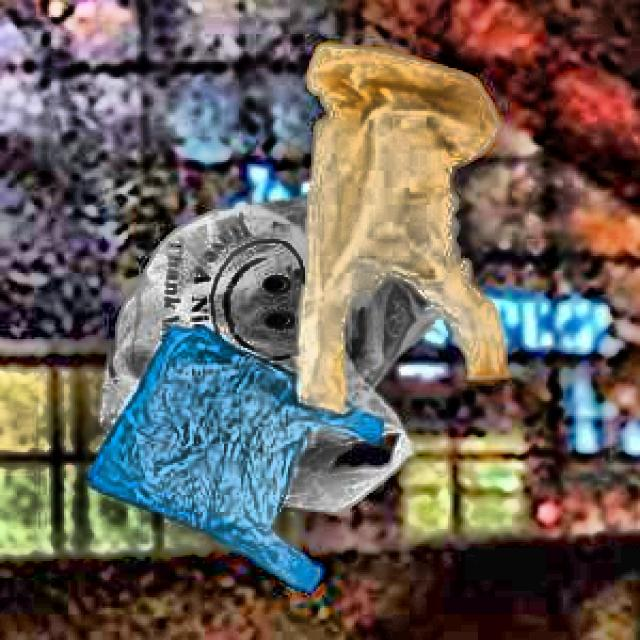Plastic: (84, 184, 443, 520), (55, 323, 403, 612), (280, 33, 535, 426)
